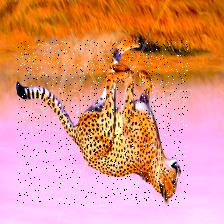Cheetha: (18, 39, 189, 205)
